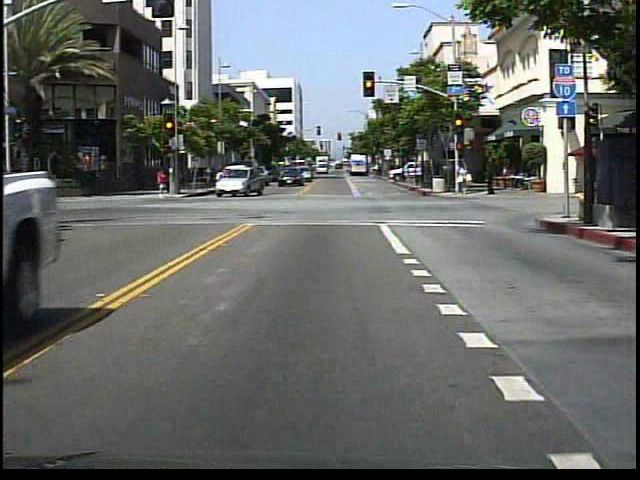person: (453, 159, 473, 198), (482, 160, 497, 198), (157, 166, 172, 197)
